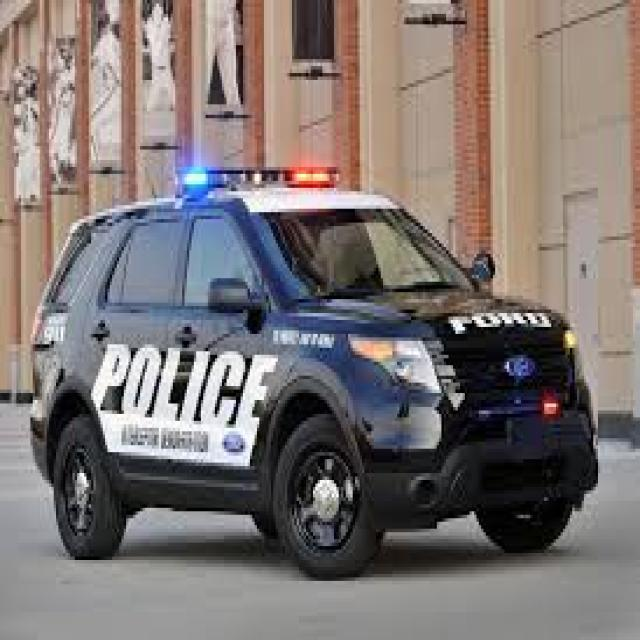cop: (29, 175, 604, 575)
